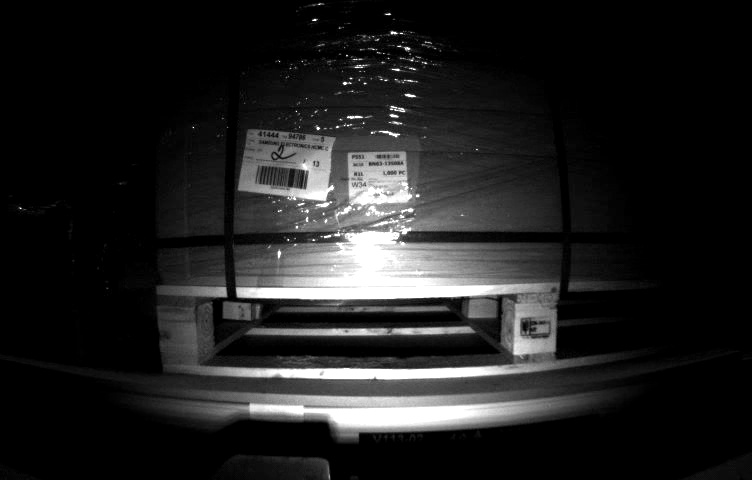True Barcode: (345, 148, 416, 210)
